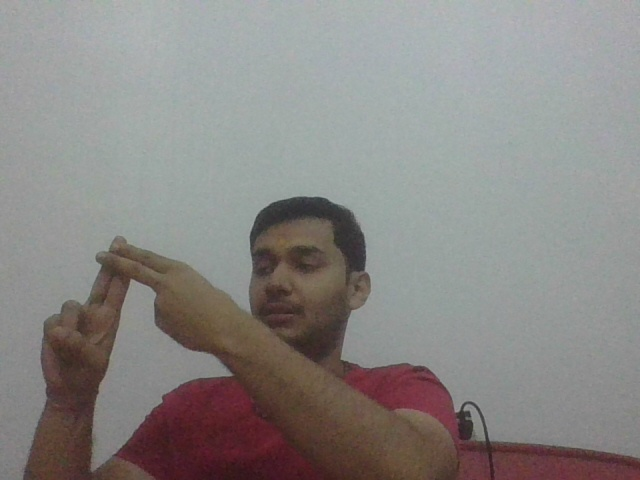F: (37, 235, 233, 372)
